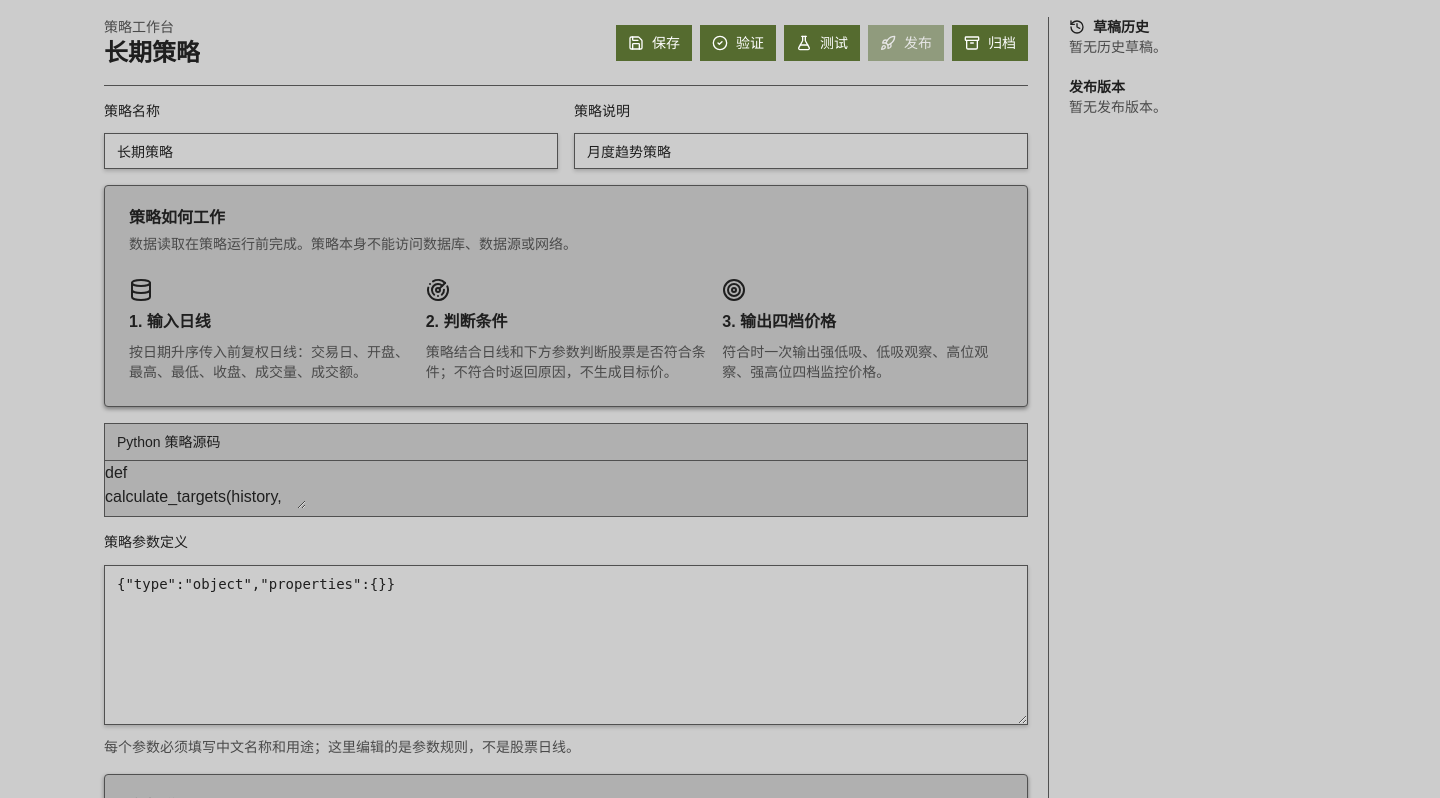
策略工作台 › 手动保存成功后给出明确反馈
Expected: the text box named "Python 策略源码" is shown, [105, 461, 306, 509]
Click the button "保存".
click(654, 43)  # box [616, 25, 692, 61]
(page scrolled)
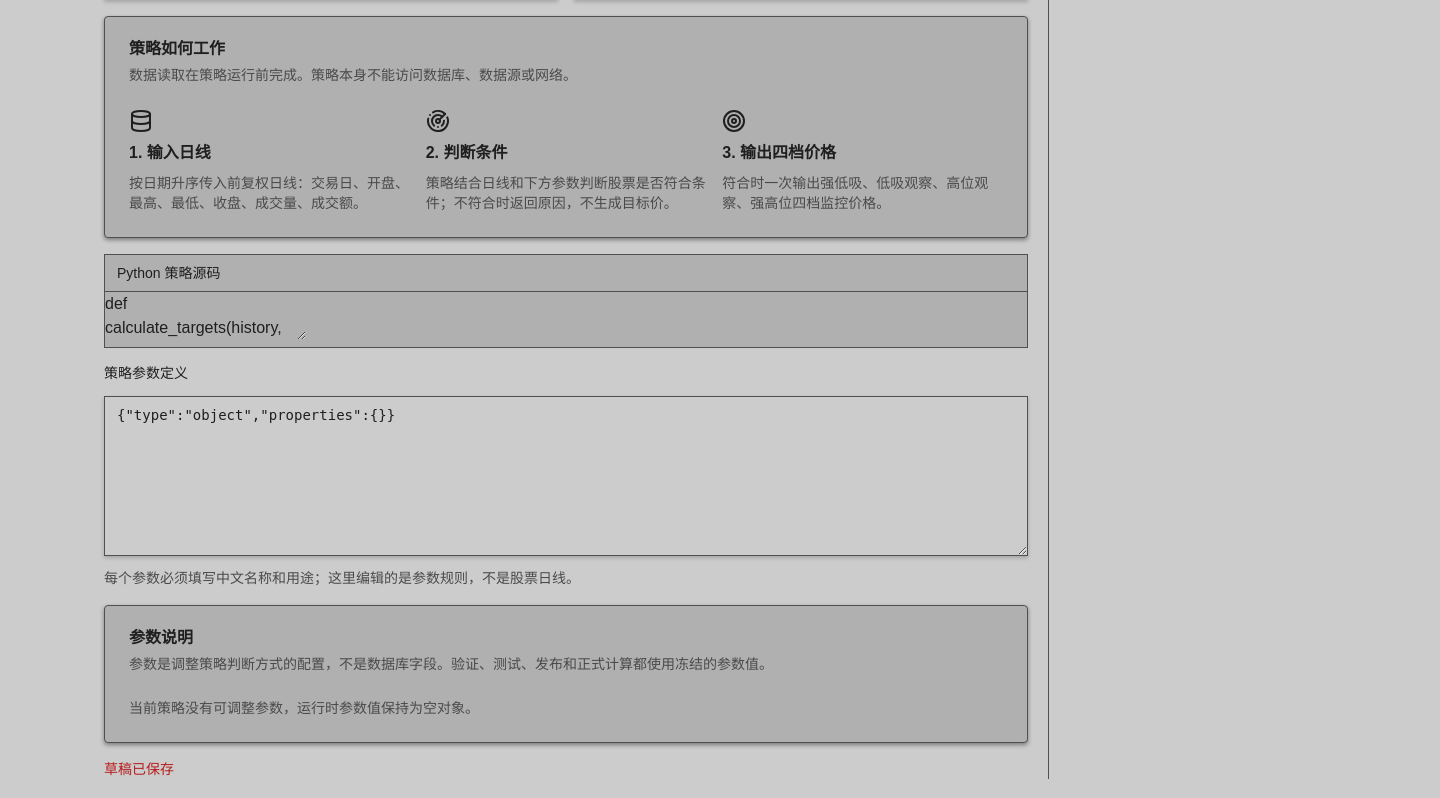
Expected: the text "草稿已保存" is shown, [104, 760, 174, 776]
